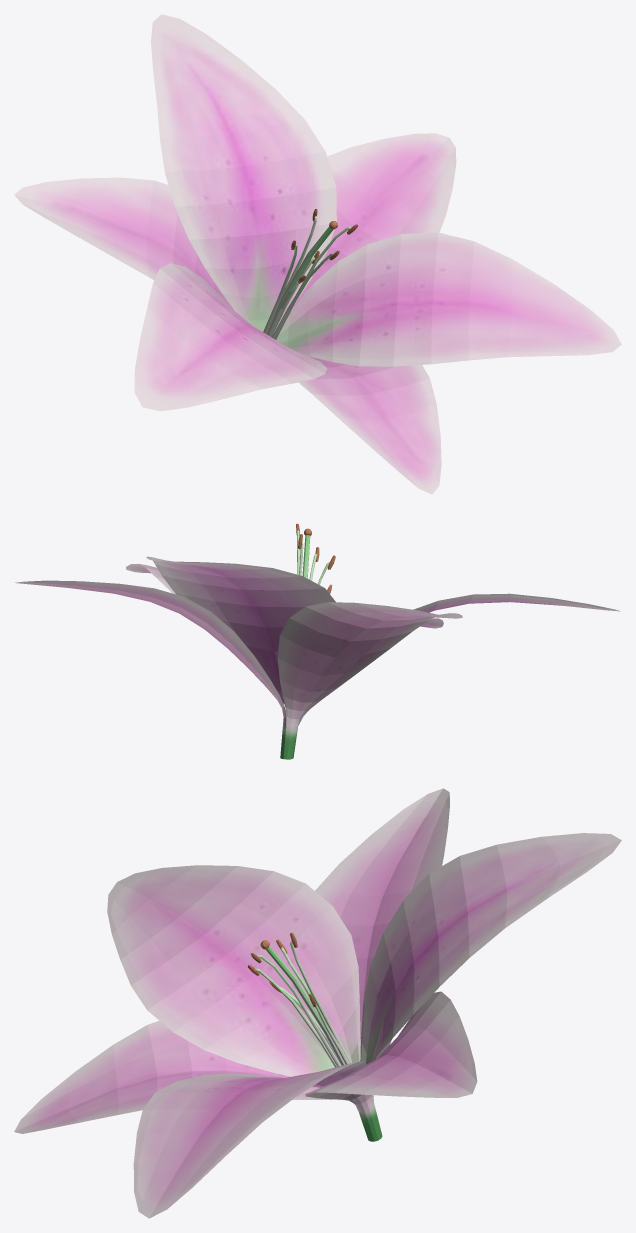
3 views of the same model, one above another, from view 1: azimuth 30°, elevation 25°; view 2: azimuth 150°, elevation 25°; view 3: azimuth 270°, elevation 25° (orthographic). The views are drawn at different scales.
Visible parts, largest first — view 1: 6abf7c73; view 2: 6abf7c73; view 3: 6abf7c73.
Part boxes in pixels (x1,y1,x2,y2): 6abf7c73: [14, 14, 621, 494]; 6abf7c73: [15, 523, 620, 759]; 6abf7c73: [14, 788, 621, 1218].
Size of the model in its own units: 0.1403 by 0.0774 by 0.1376.
Materials: 1 (1 with a texture image).
